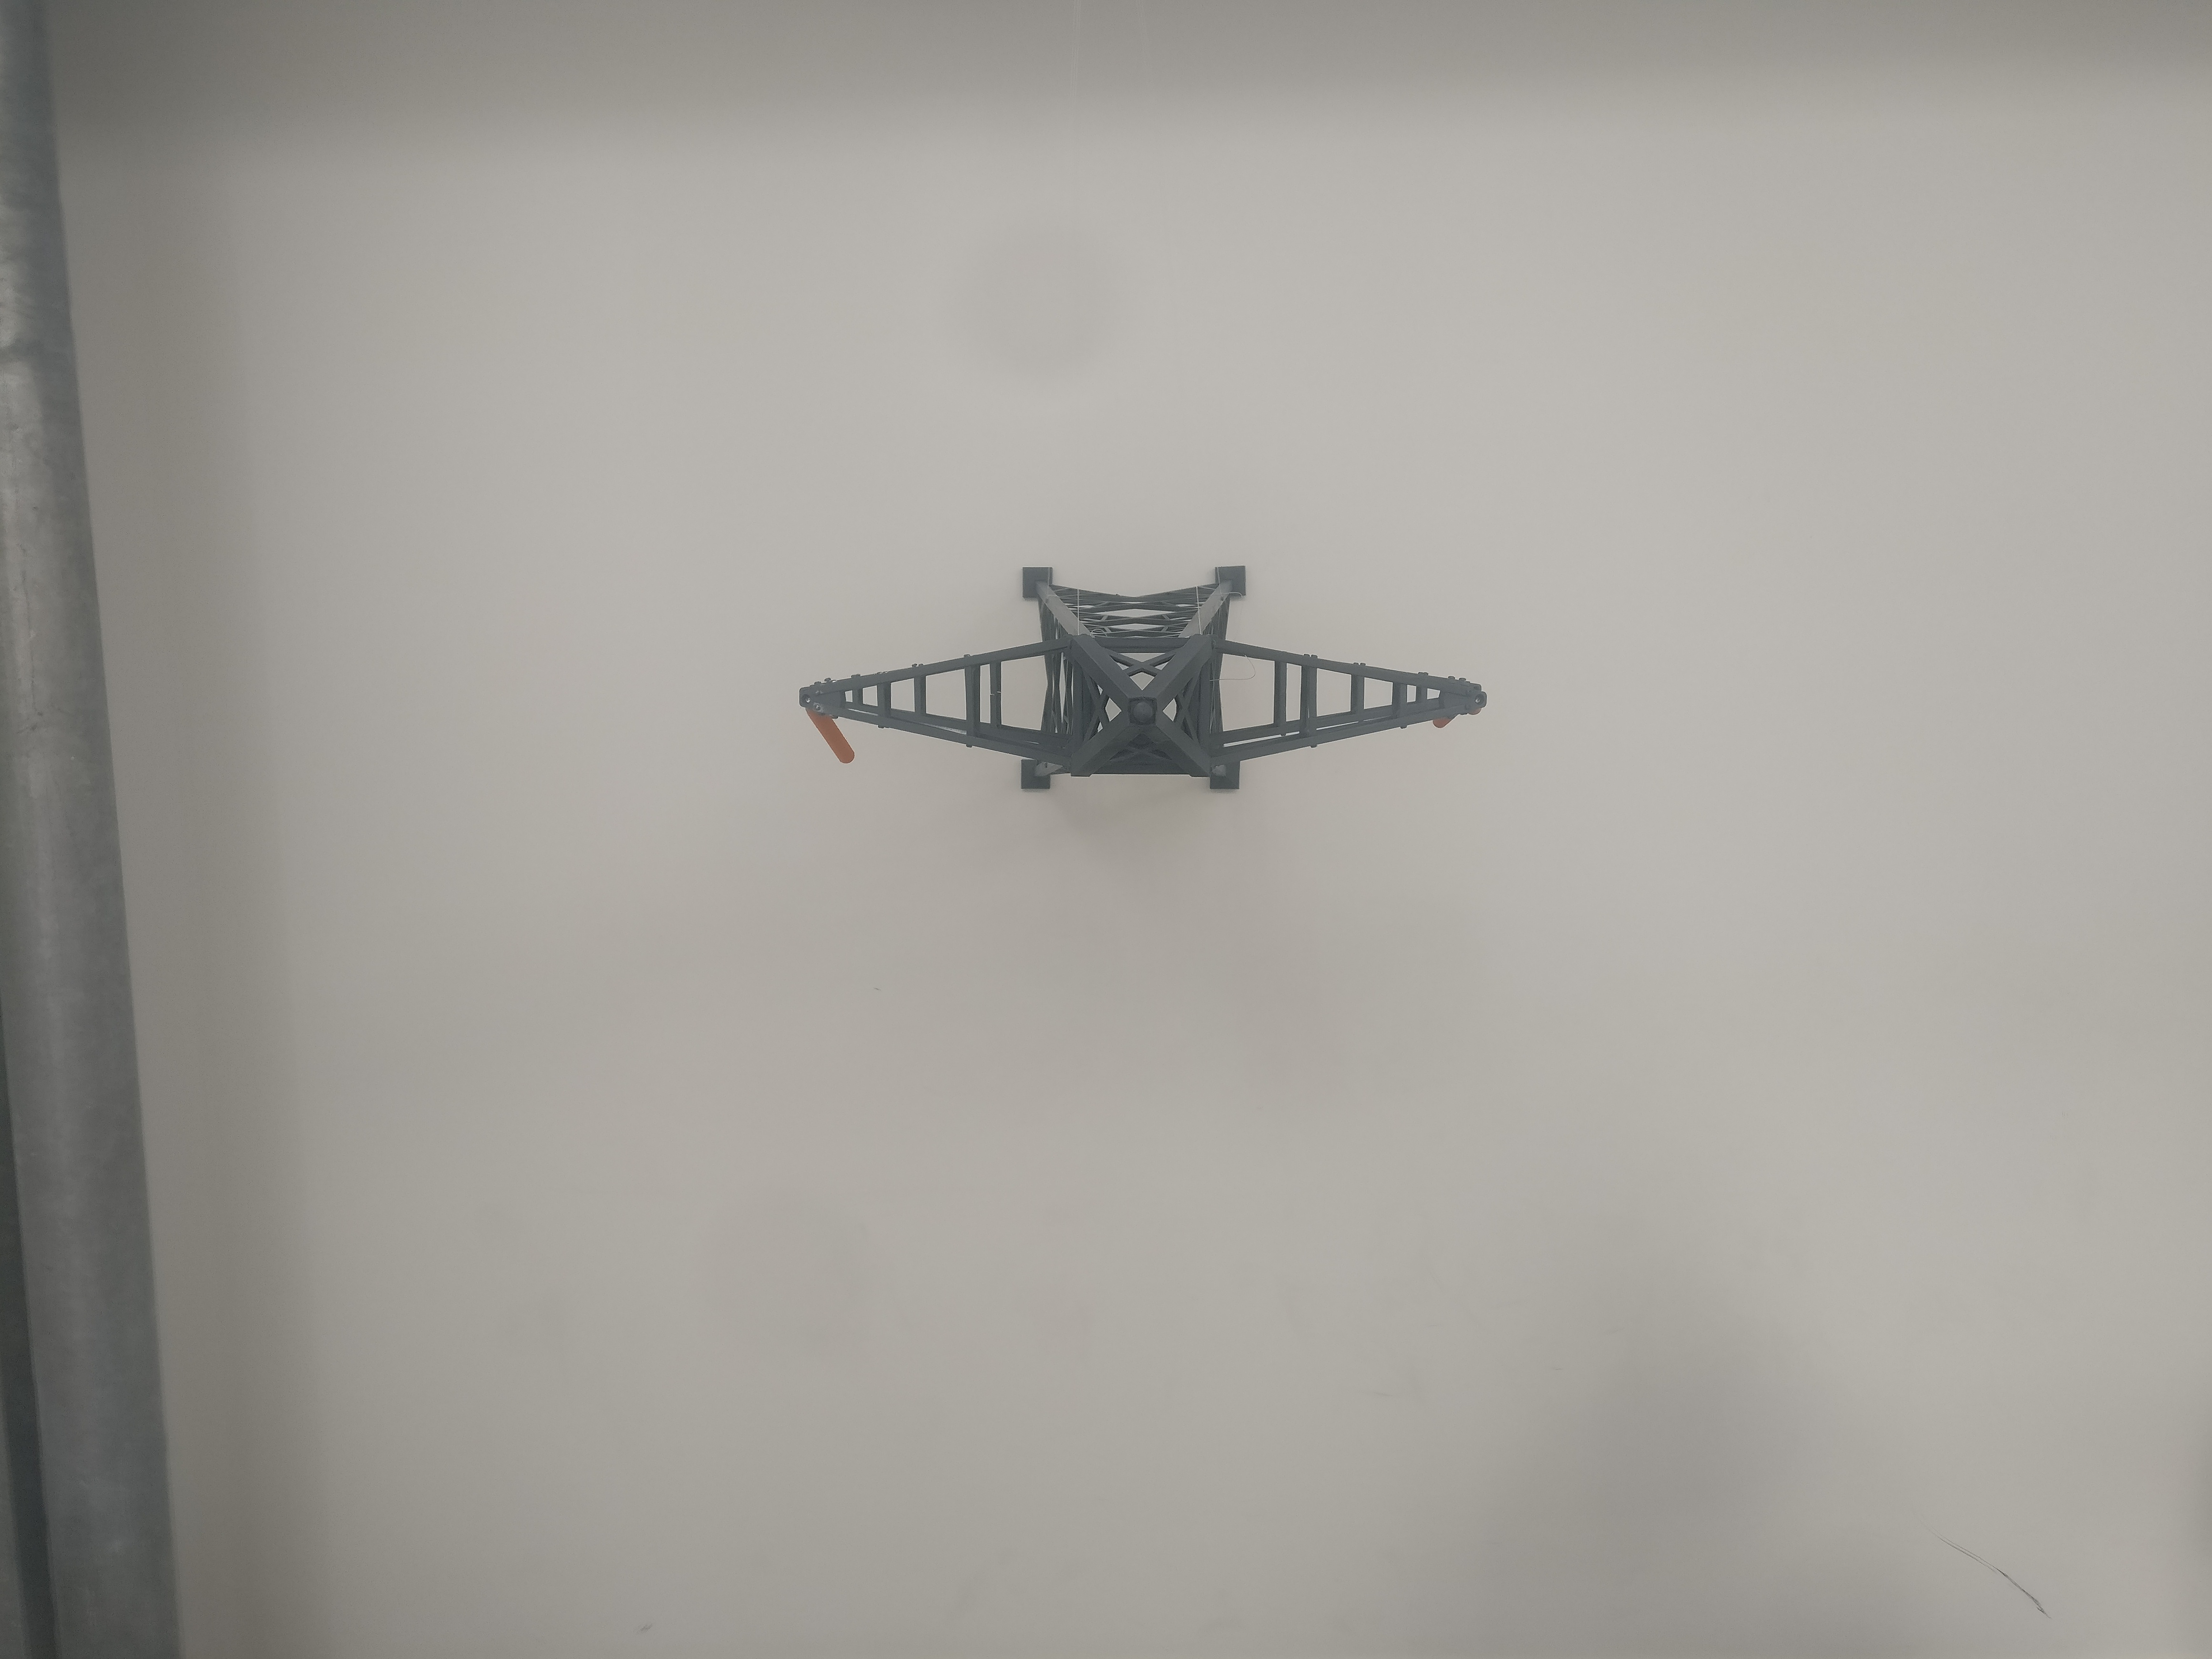pylon_phy: (796, 634, 1489, 777)
